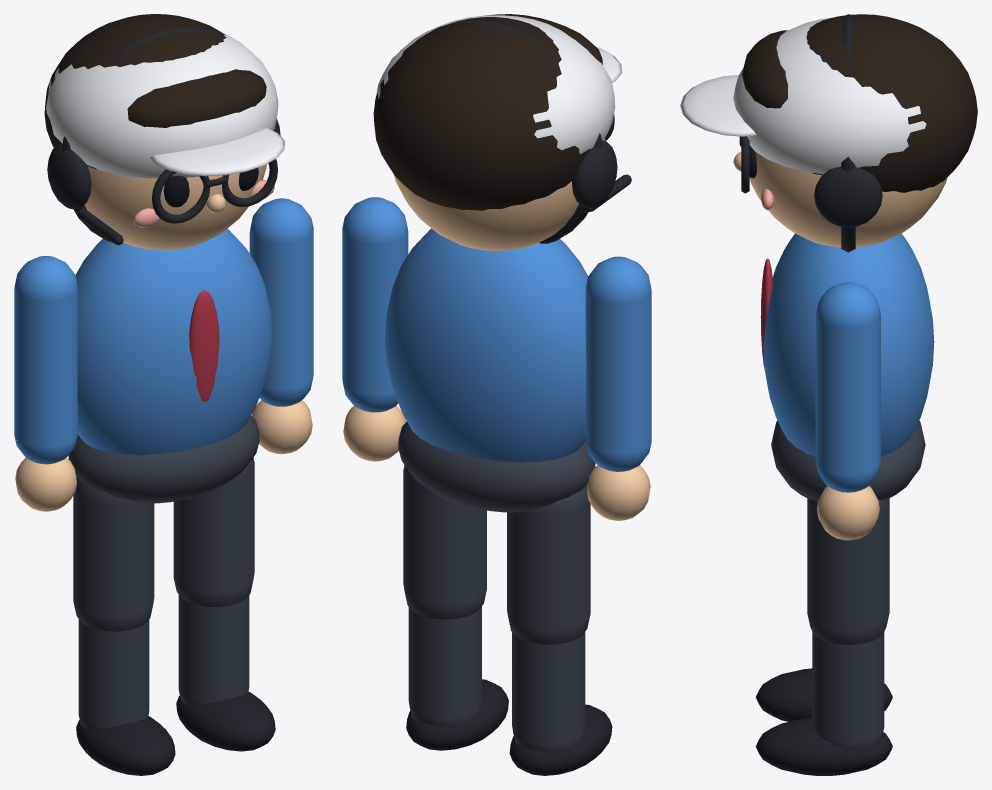
The model's file is character.glb.
The picture shows the model from 3 angles, left to right: view 1: azimuth 30°, elevation 25°; view 2: azimuth 150°, elevation 25°; view 3: azimuth 270°, elevation 25°; orthographic projection. The views are drawn at different scales.
Visible parts, largest first — view 1: Torso, CapDome, Sleeve, Thigh, Sleeve.001, Thigh.001, Hips, Skull, Shin.001, Shin, HairTop, Fringe (+12 smaller); view 2: Torso, HairTop, Sleeve, Thigh, Sleeve.001, Thigh.001, Hips, Shin, Shin.001, CapDome, Skull, Shoe (+6 smaller); view 3: Torso, HairTop, CapDome, Sleeve.001, Thigh.001, Shin.001, Skull, Shoe.001, Hips, Cup.001, CapBrim, Hand.001 (+4 smaller).
Part boxes in pixels (x1=…): Torso: x1=76, y1=228, x2=272, y2=455; CapDome: x1=46, y1=33, x2=278, y2=178; Sleeve: x1=14, y1=256, x2=78, y2=464; Thigh: x1=73, y1=476, x2=154, y2=631; Sleeve.001: x1=249, y1=198, x2=313, y2=406; Thigh.001: x1=173, y1=458, x2=254, y2=606; Hips: x1=68, y1=415, x2=259, y2=503; Skull: x1=84, y1=164, x2=266, y2=250; Shin.001: x1=178, y1=594, x2=249, y2=704; Shin: x1=78, y1=619, x2=149, y2=729; HairTop: x1=44, y1=14, x2=226, y2=169; Fringe: x1=127, y1=69, x2=266, y2=127; Torso: x1=384, y1=228, x2=588, y2=462; HairTop: x1=373, y1=17, x2=590, y2=210; Sleeve: x1=585, y1=256, x2=651, y2=471; Thigh: x1=507, y1=484, x2=590, y2=644; Sleeve.001: x1=342, y1=197, x2=408, y2=412; Thigh.001: x1=403, y1=465, x2=486, y2=619; Hips: x1=398, y1=421, x2=595, y2=512; Shin: x1=512, y1=632, x2=585, y2=752; Shin.001: x1=408, y1=606, x2=481, y2=727; CapDome: x1=375, y1=15, x2=615, y2=154; Skull: x1=393, y1=138, x2=605, y2=250; Shoe: x1=509, y1=704, x2=612, y2=775; Torso: x1=763, y1=233, x2=934, y2=456; HairTop: x1=806, y1=14, x2=977, y2=192; CapDome: x1=733, y1=17, x2=926, y2=174; Sleeve.001: x1=815, y1=282, x2=880, y2=492; Thigh.001: x1=807, y1=498, x2=889, y2=644; Shin.001: x1=812, y1=632, x2=884, y2=750; Skull: x1=749, y1=152, x2=947, y2=247; Shoe.001: x1=755, y1=717, x2=892, y2=775; Hips: x1=771, y1=420, x2=925, y2=500; Cup.001: x1=814, y1=167, x2=882, y2=227; CapBrim: x1=680, y1=75, x2=756, y2=136; Hand.001: x1=817, y1=486, x2=879, y2=540.
Bounding box in the file's own units: 0.99 × 2.31 × 0.8671.
